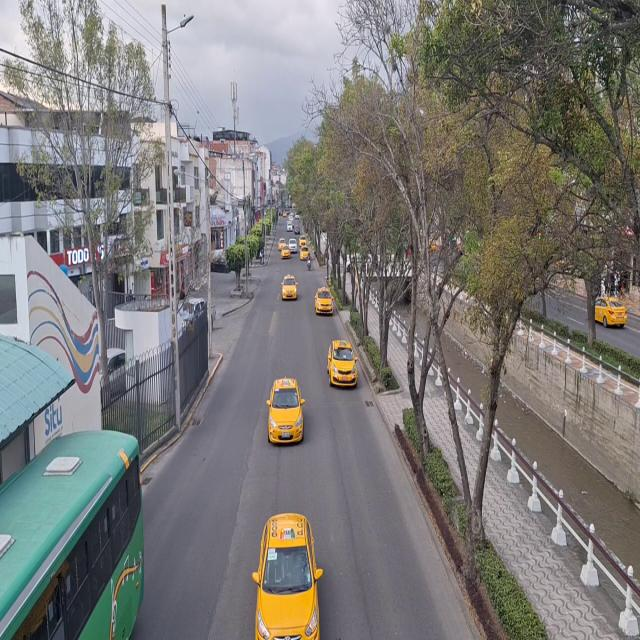BUS: (0, 440, 138, 640)
MOTORCYCLE: (307, 259, 311, 271)
SED: (254, 512, 321, 638)
